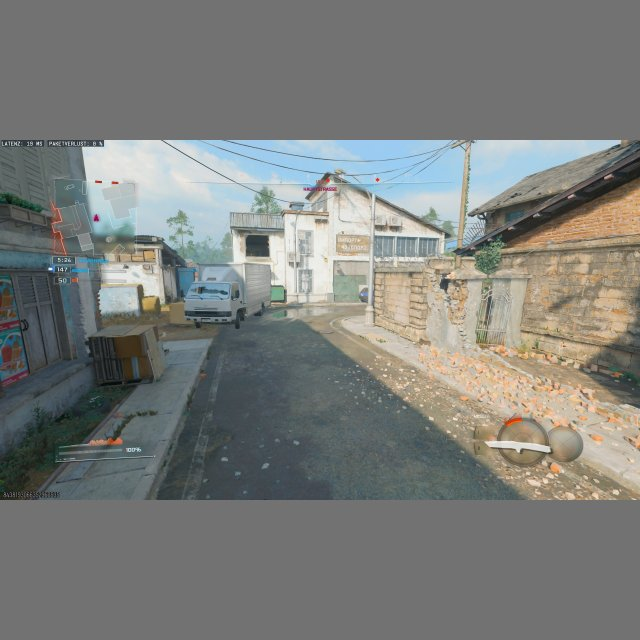player: (234, 306, 247, 329)
